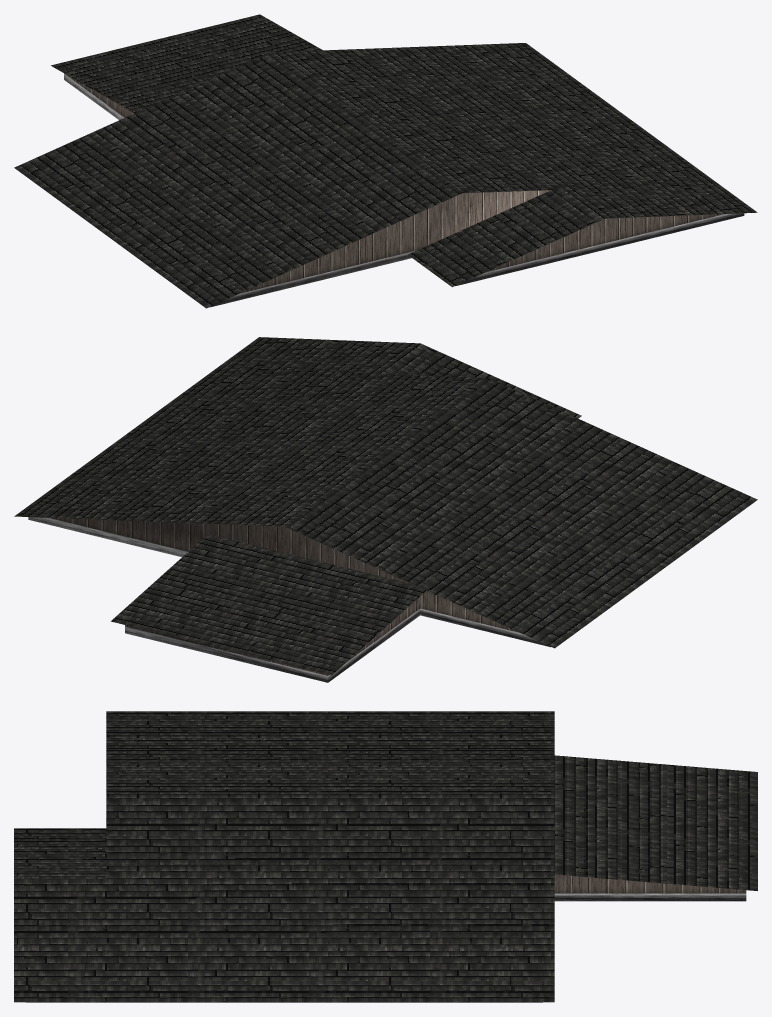
File: roof3.obj
The picture shows the model from 3 angles, top to bottom: view 1: azimuth 30°, elevation 25°; view 2: azimuth 150°, elevation 25°; view 3: azimuth 270°, elevation 25°; orthographic projection. The views are drawn at different scales.
Visible parts, largest first — view 1: top3; view 2: top3; view 3: top3.
Boxes of the visible parts, x1=… form: top3: x1=14, y1=14, x2=757, y2=308; top3: x1=14, y1=337, x2=757, y2=682; top3: x1=14, y1=711, x2=757, y2=1002.
Bounding box in the file's own units: 596 × 64 × 644.
